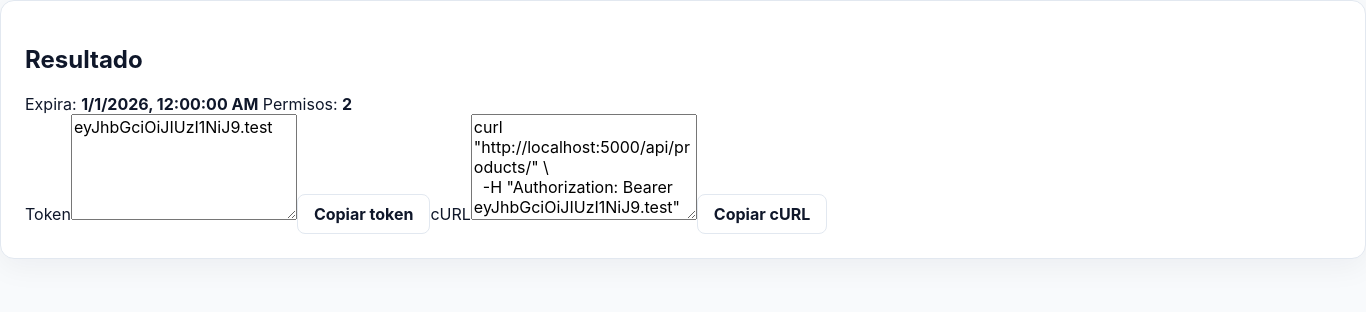
Test: TestTokenResult › copies the token with feedback
The image size is (1366, 312).
Click the button "Copiar token" at (364, 214), box 297,194 -> 430,234
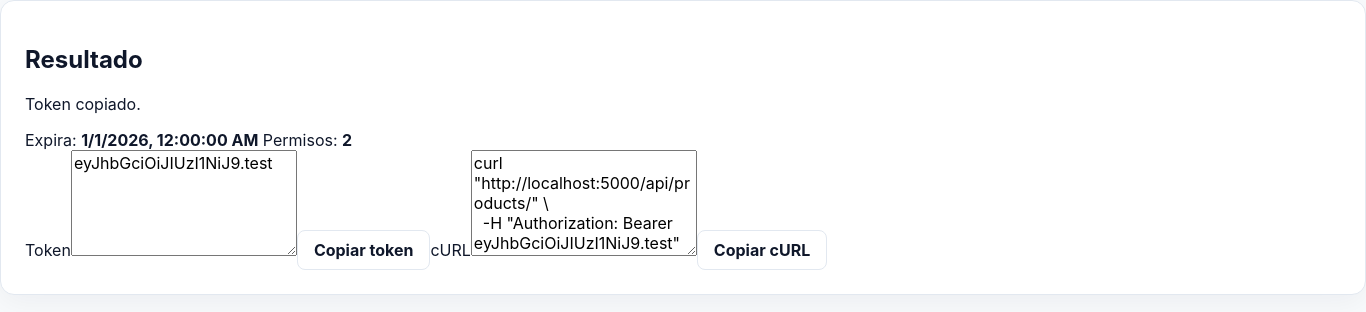
Expected: the text "Token copiado." is shown, 25,94 -> 141,114
